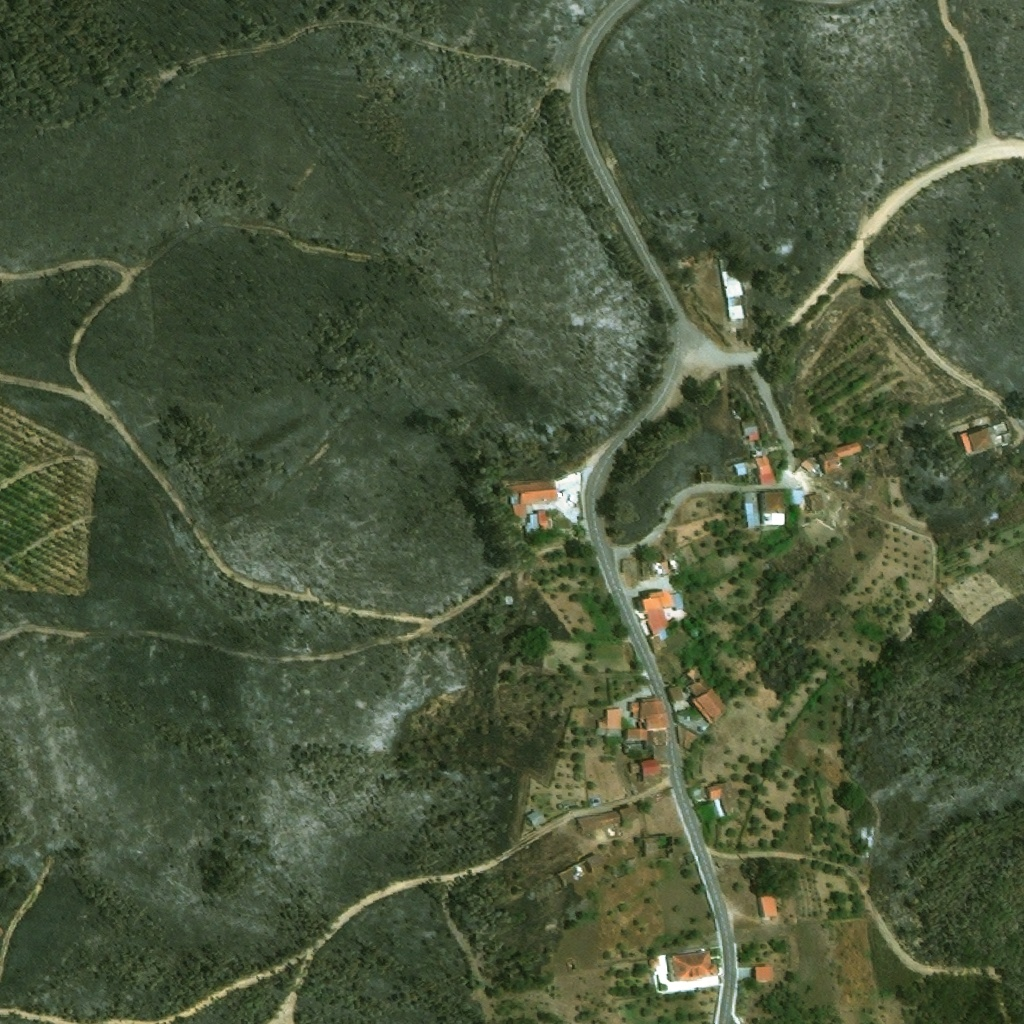0 no-damage: (622, 695, 671, 780), (633, 589, 682, 652), (503, 480, 559, 534), (683, 668, 730, 725), (956, 420, 1016, 456), (576, 803, 640, 836), (665, 950, 721, 984), (719, 256, 747, 320), (819, 440, 864, 475), (707, 781, 742, 817), (759, 491, 788, 525), (756, 454, 778, 486), (676, 724, 698, 750), (597, 708, 622, 730), (759, 895, 780, 920), (742, 420, 762, 440), (525, 810, 545, 830), (586, 852, 605, 873), (809, 491, 826, 512), (754, 965, 774, 982), (734, 458, 751, 477), (642, 837, 658, 857), (745, 501, 756, 529), (790, 488, 807, 506), (650, 559, 666, 577), (668, 685, 685, 701), (622, 559, 638, 575), (799, 458, 815, 471), (669, 558, 680, 569), (648, 955, 657, 968)
